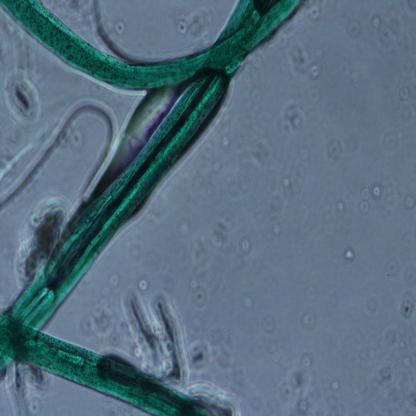Air bubble: (0, 103, 116, 204)
Background material: (122, 282, 188, 383), (15, 200, 66, 287), (215, 136, 266, 197), (277, 350, 321, 412), (267, 166, 302, 229), (5, 72, 43, 127), (293, 34, 330, 88), (188, 231, 212, 310), (81, 303, 122, 346), (371, 5, 409, 47), (367, 357, 402, 402), (388, 72, 414, 118), (212, 206, 240, 248), (374, 176, 403, 214), (170, 10, 208, 39), (275, 98, 304, 133), (380, 325, 410, 357), (324, 374, 346, 414), (374, 254, 404, 282), (323, 136, 353, 164), (336, 55, 362, 86), (357, 183, 381, 215), (377, 125, 403, 153), (361, 289, 386, 315), (106, 14, 131, 38), (303, 0, 326, 23), (398, 289, 416, 318), (326, 195, 348, 218), (300, 305, 318, 330), (261, 312, 279, 332), (345, 22, 362, 42), (236, 292, 256, 309), (403, 187, 416, 212), (131, 273, 154, 287), (342, 244, 358, 263), (105, 274, 119, 292), (242, 236, 252, 256)
Microfibre: (0, 1, 272, 350), (0, 0, 303, 94), (0, 312, 206, 414)
